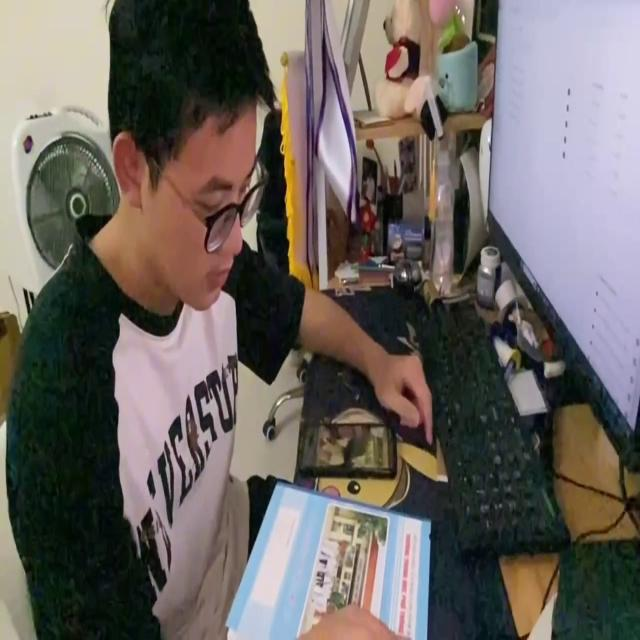book: (231, 479, 435, 640)
laptop: (485, 0, 640, 474)
phone: (291, 407, 399, 483)
student: (3, 0, 436, 640)
